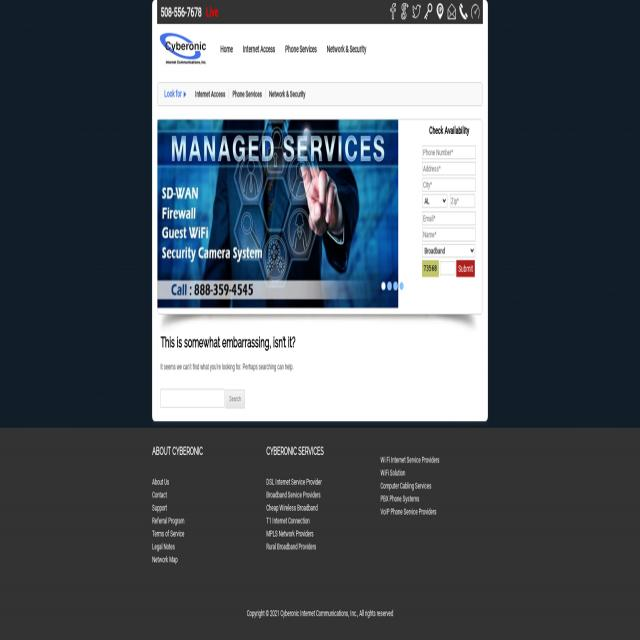button: (158, 120, 398, 308), (157, 30, 210, 68), (323, 38, 370, 60), (240, 38, 278, 60), (282, 38, 320, 60), (217, 38, 236, 60), (226, 390, 244, 408), (457, 260, 475, 277), (422, 260, 439, 277), (412, 3, 421, 19), (459, 3, 468, 19), (389, 3, 397, 19), (401, 3, 409, 19), (424, 3, 432, 19), (436, 3, 444, 19), (448, 3, 456, 19), (471, 3, 479, 19), (380, 280, 386, 293), (386, 280, 392, 293), (392, 280, 398, 293), (398, 280, 404, 293)
field: (160, 389, 224, 407), (422, 146, 476, 159), (422, 162, 476, 175), (422, 178, 476, 191), (422, 212, 476, 225), (422, 228, 476, 241), (422, 244, 475, 257), (422, 194, 448, 208), (450, 194, 475, 208), (440, 262, 455, 275)
